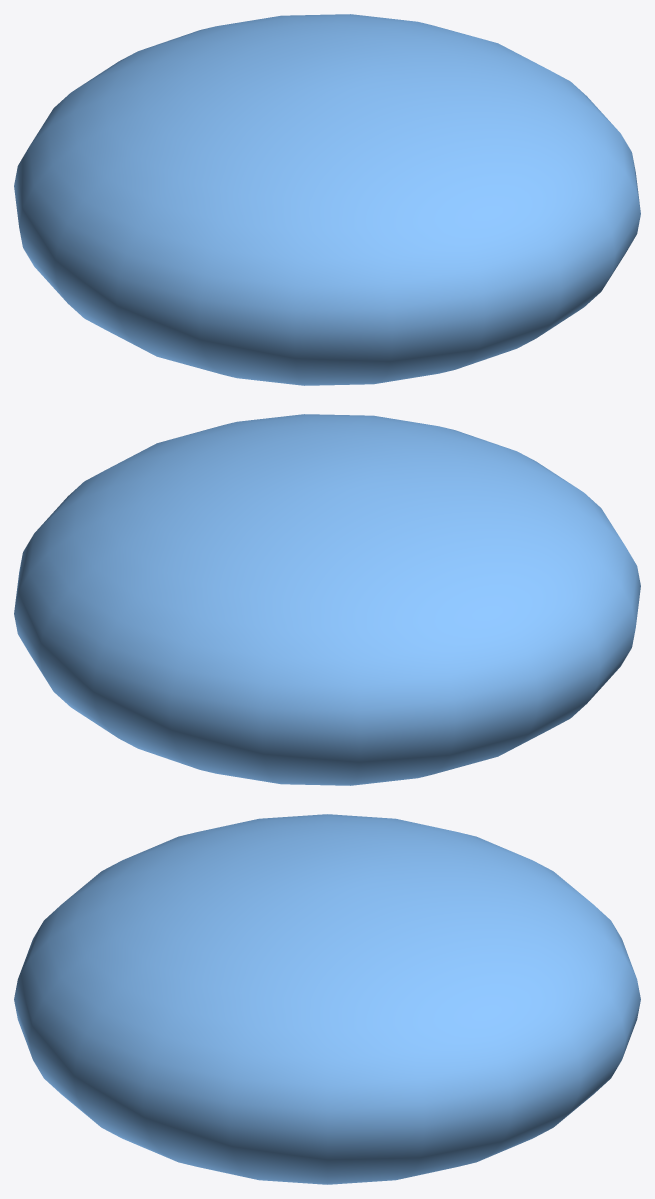
Rendered from Standard_Pipis.fbx.
The picture shows the model from 3 angles, top to bottom: view 1: azimuth 30°, elevation 25°; view 2: azimuth 150°, elevation 25°; view 3: azimuth 270°, elevation 25°; orthographic projection.
Visible parts, largest first — view 1: polySurface4; view 2: polySurface4; view 3: polySurface4.
Part boxes in pixels (x1,y1,x2,y2): polySurface4: (14,14,640,385); polySurface4: (14,414,640,785); polySurface4: (14,814,640,1184).
Size of the model in its own units: 1.71 by 0.7781 by 1.71.
